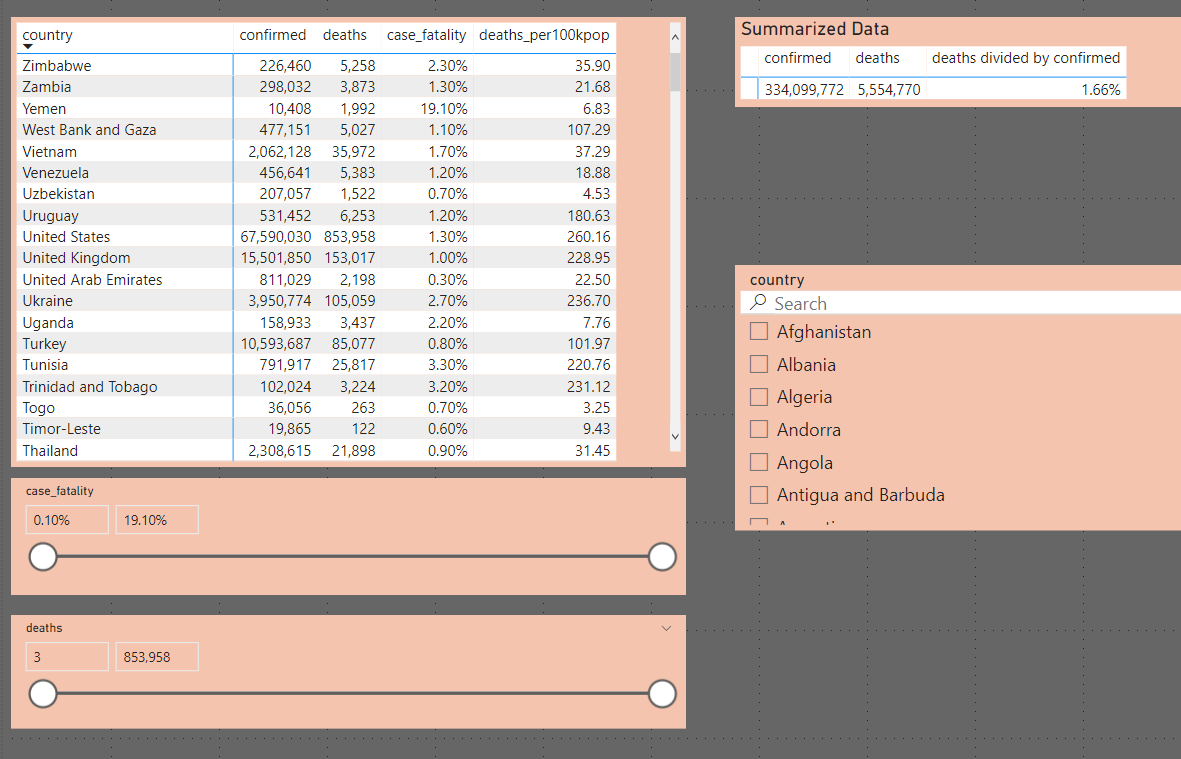

The dashboard page shown, as its layout file describes it:
{"tool":"powerbi","page":{"name":"Tables","canvas":[1280,720],"ordinal":1},"visuals":[{"type":"pivotTable","title":"Summarized Data","fields":{"Values":["Sum(CoronaData.confirmed)","Sum(CoronaData.deaths)","CoronaData.deaths divided by confirmed"]},"box":[650.9,31,415.4,79.7],"z":0},{"type":"pivotTable","fields":{"Rows":["CoronaData.country"],"Values":["Sum(CoronaData.confirmed)","Sum(CoronaData.deaths)","Sum(CoronaData.case_fatality)","Sum(CoronaData.deaths_per100kpop)"]},"box":[7.1,31,600.4,400.3],"z":1000},{"type":"slicer","fields":{"Values":["CoronaData.country"]},"box":[650.9,251.5,433.9,235.6],"z":2000},{"type":"slicer","fields":{"Values":["CoronaData.case_fatality"]},"box":[7.1,440.9,600,104],"z":2001},{"type":"slicer","fields":{"Values":["CoronaData.deaths"]},"box":[7.1,562.7,600,101.3],"z":2002}]}

Visuals, with their boxes on the page's 1280x720 design canvas (x1, y1, x2, y2). These are canvas units, not pixel positions in the 1181x759 screenshot, which may show the page scaled, cropped or inside an application window:
"Summarized Data" pivotTable: 651,31,1066,111
pivotTable - CoronaData.country x Sum(CoronaData.confirmed): 7,31,608,431
slicer - CoronaData.country: 651,252,1085,487
slicer - CoronaData.case_fatality: 7,441,607,545
slicer - CoronaData.deaths: 7,563,607,664
